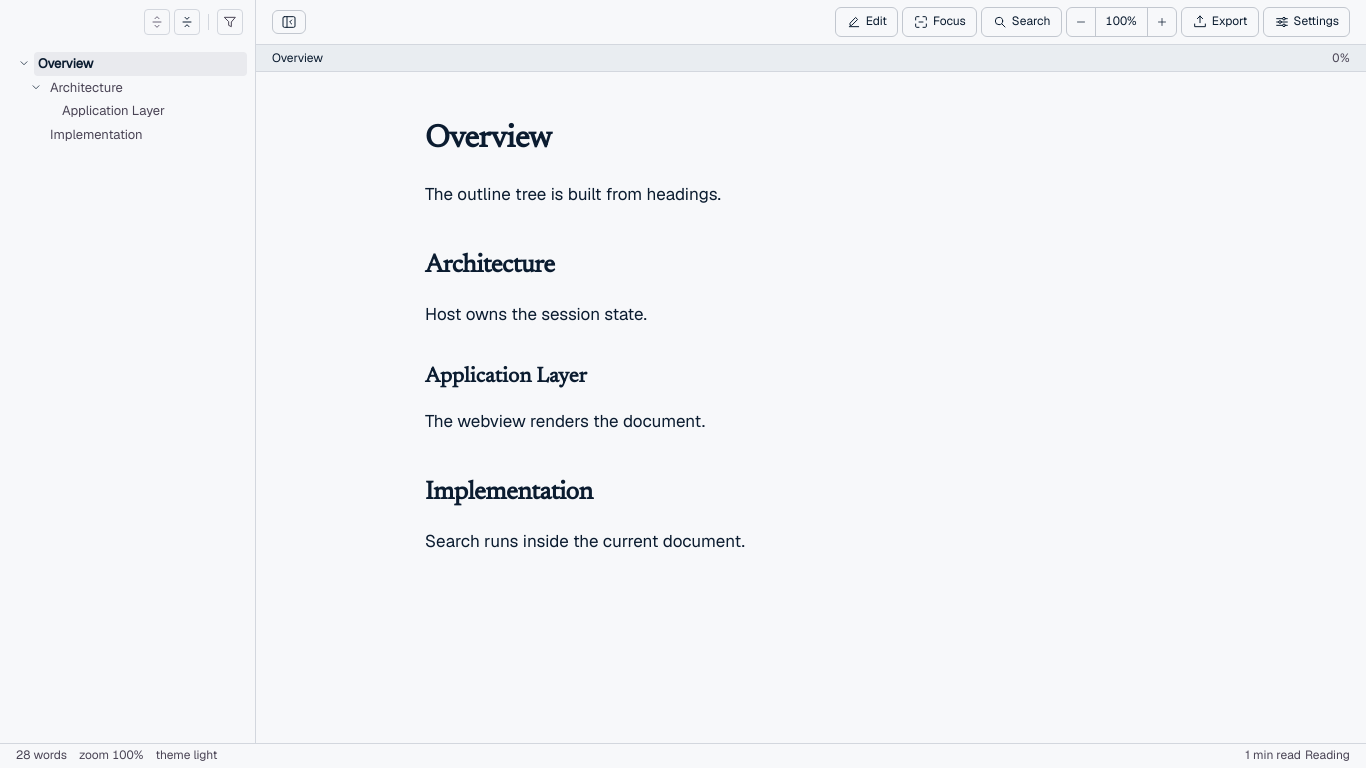
Test: 文档内搜索接管（§9.1 / PRD-002 §10.2） › 切换文档时清空搜索浮层与折叠状态（§10.3 不留副本）
The width and height of the screenshot is (1366, 768).
Click the button with aria-label "Search in document".
click(1021, 22)  # box [981,7,1062,37]
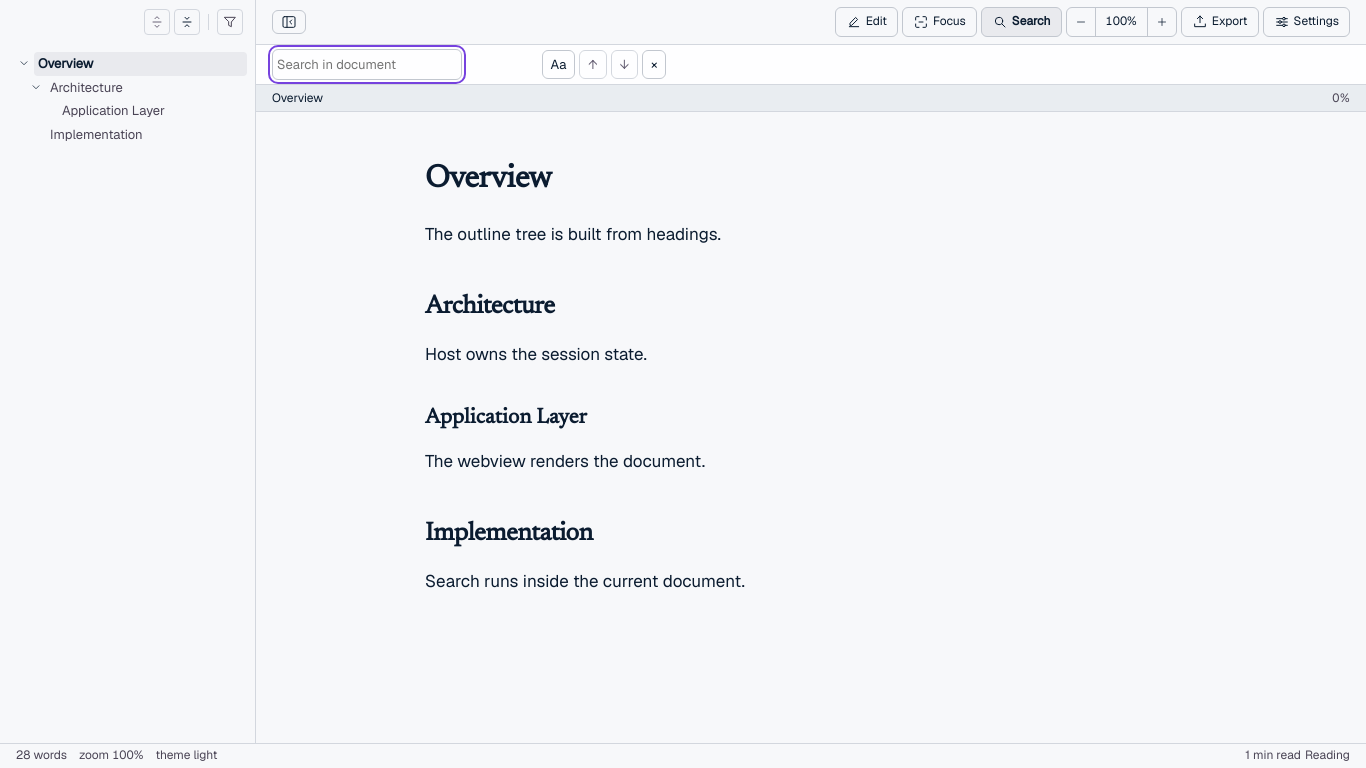
Click the button named "Collapse Architecture".
click(36, 87)  # box [28,76,44,98]
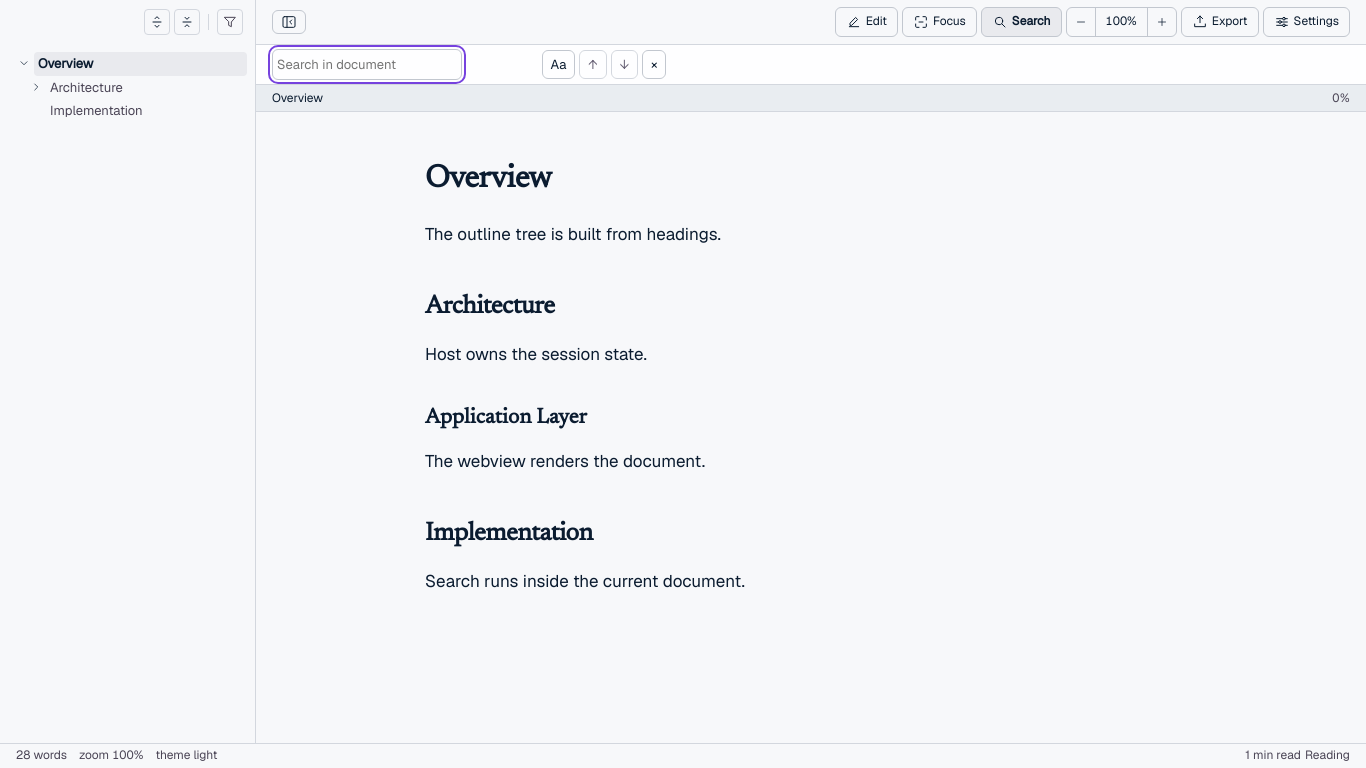
Now the number of list items with class "readora-outline-item" is 3, box [16,52,247,76]; [28,76,123,98]; [50,102,143,119]
